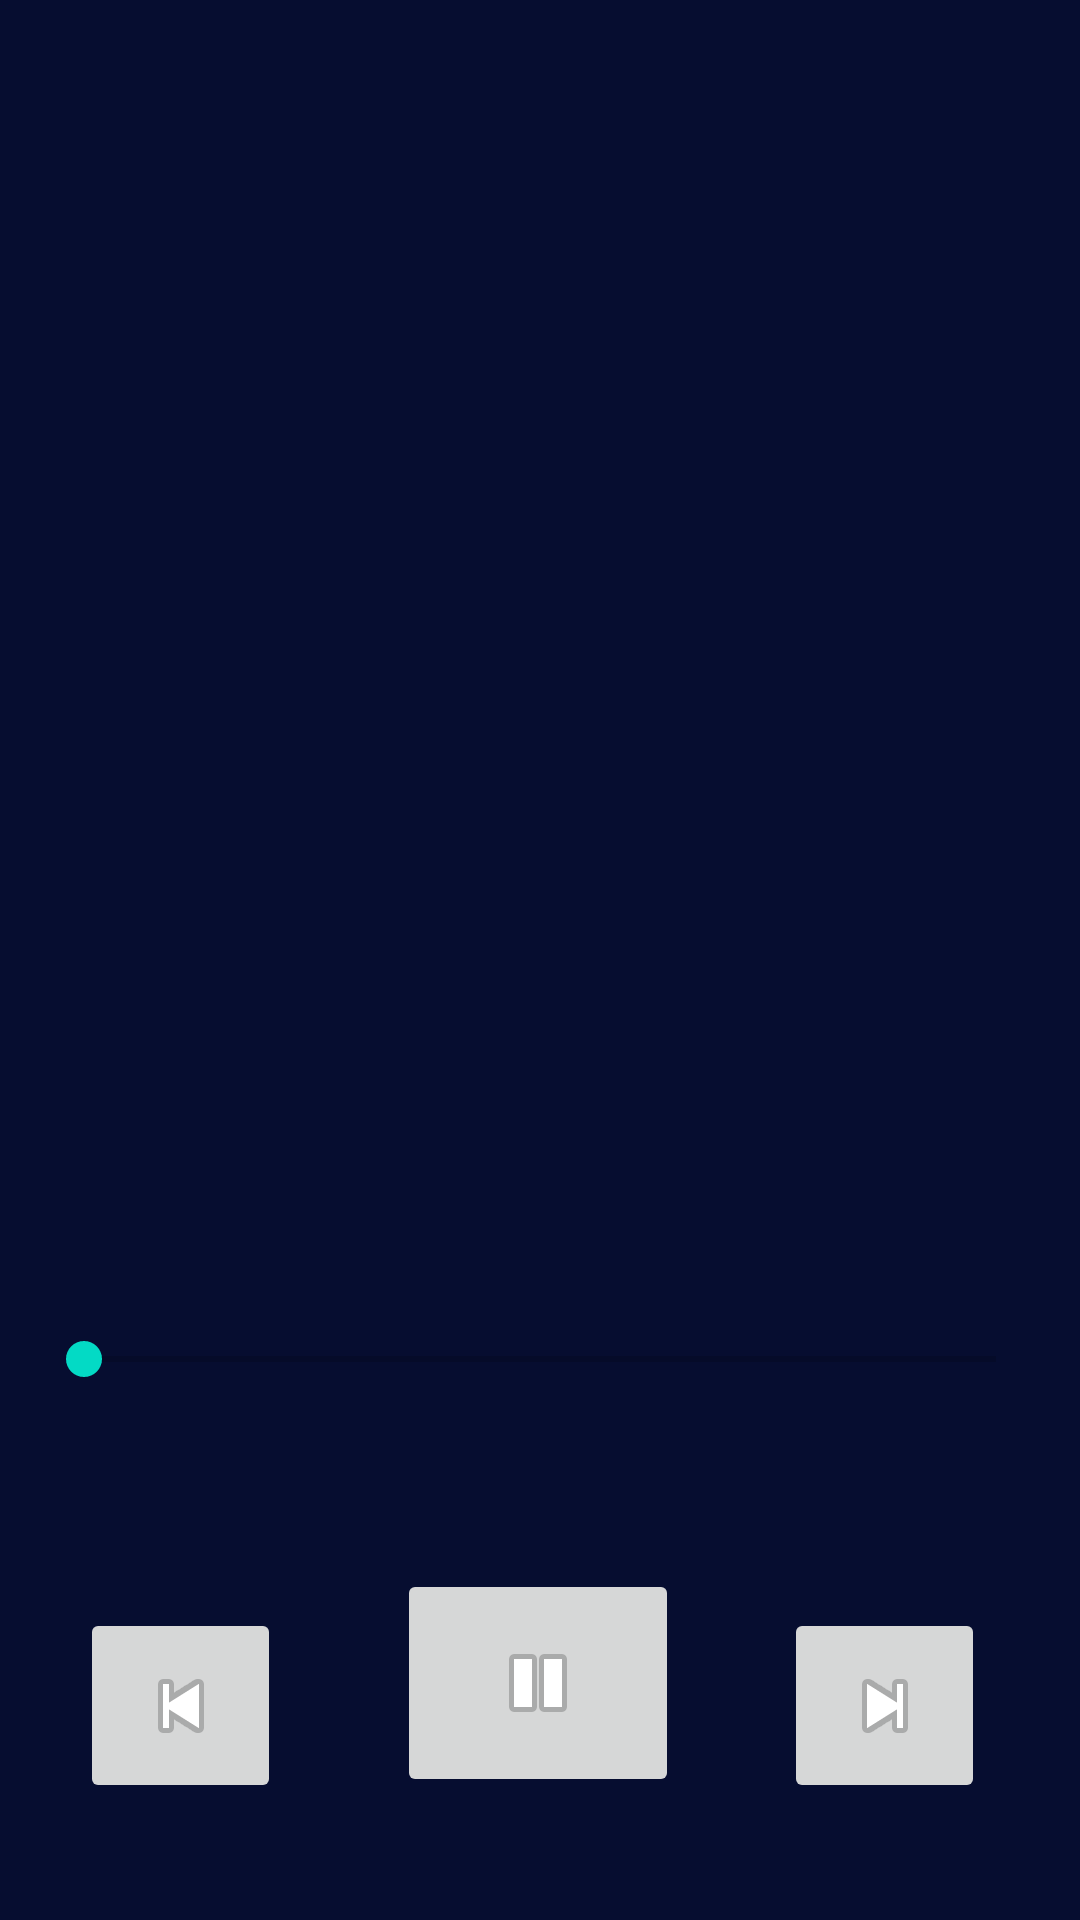

Named icons in this screenshot (1080*1920) and their bounding boxes, (x1, y1, x2, y2):
next: (796, 1626, 973, 1785)
pause: (409, 1587, 667, 1779)
previous: (92, 1626, 269, 1785)
